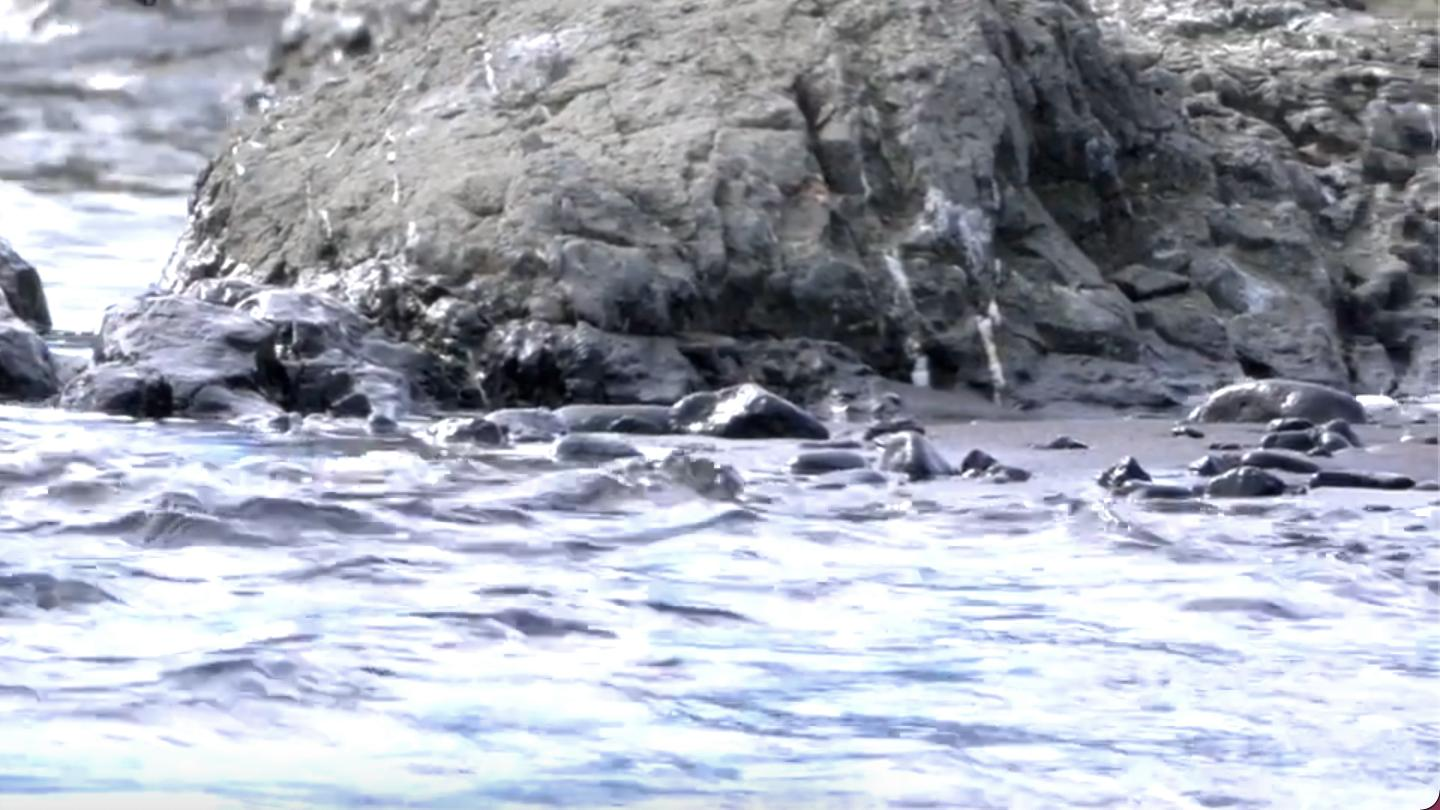Chinstrap Penguin: (0, 0, 176, 178)
